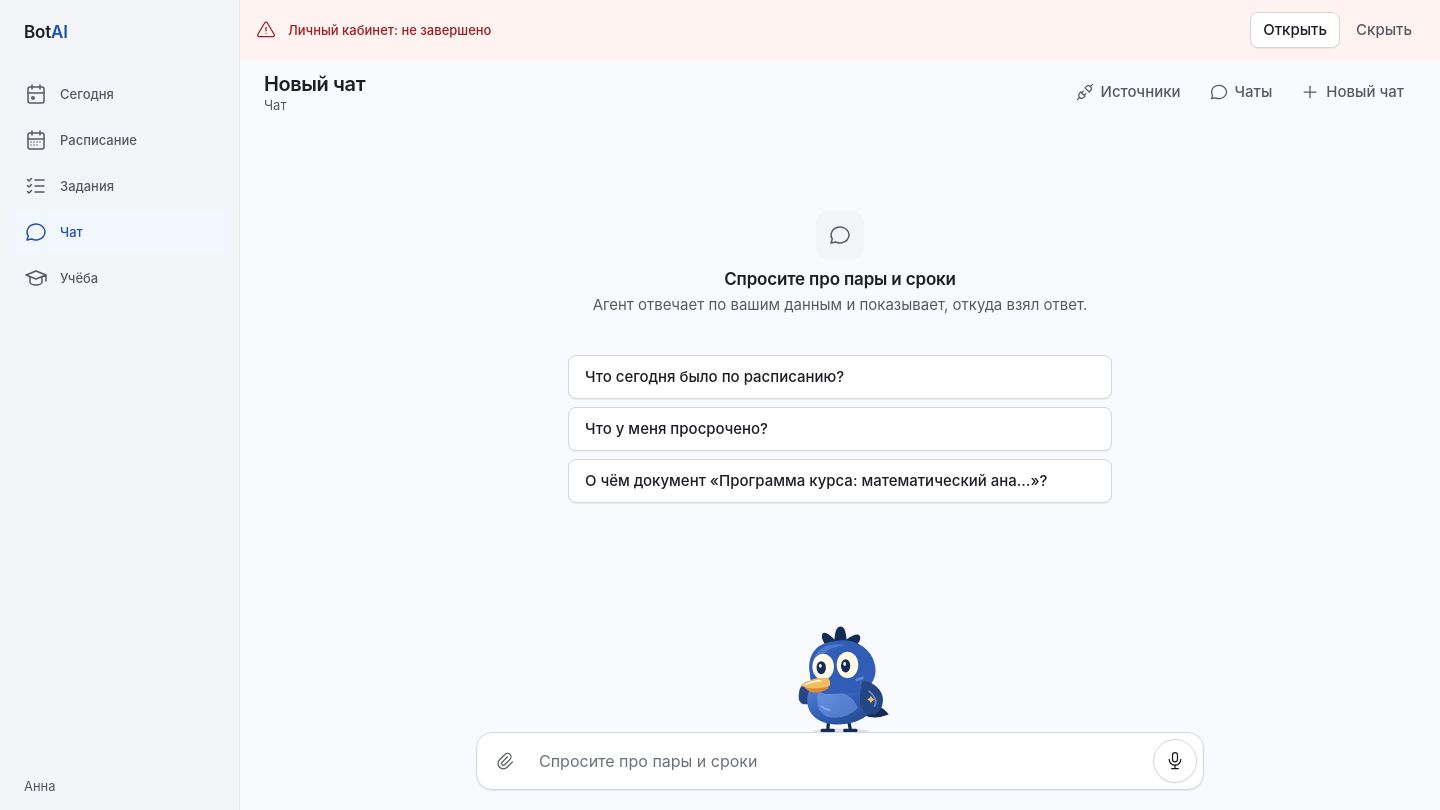
Test: один тред: подключение, вход, вопросы агента и ответы в одной ленте › сервер отказал (409 secret_link_calendar) — защита на случай расхождения: стёрто из очереди и хранилища, в поле остальной текст
The width and height of the screenshot is (1440, 810).
Expected: the heading "Спросите про пары и сроки" is shown, [724,268,956,288]
Type "Привет, это обычный текст" into the text box named "Сообщение агенту" at (840, 761), box [531,739,1149,783]
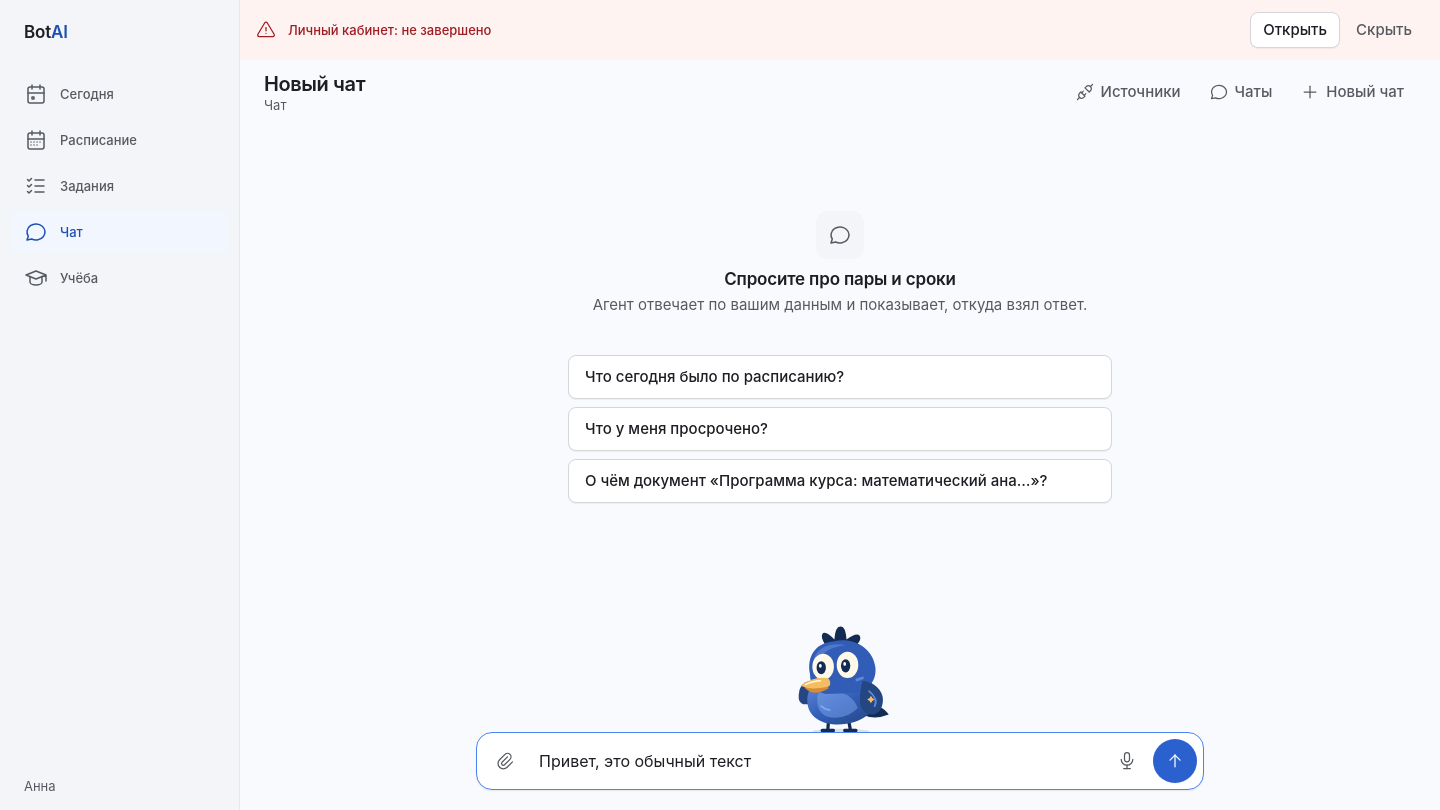
Click the button named "Отправить" at (1175, 761), box [1153,739,1197,783]
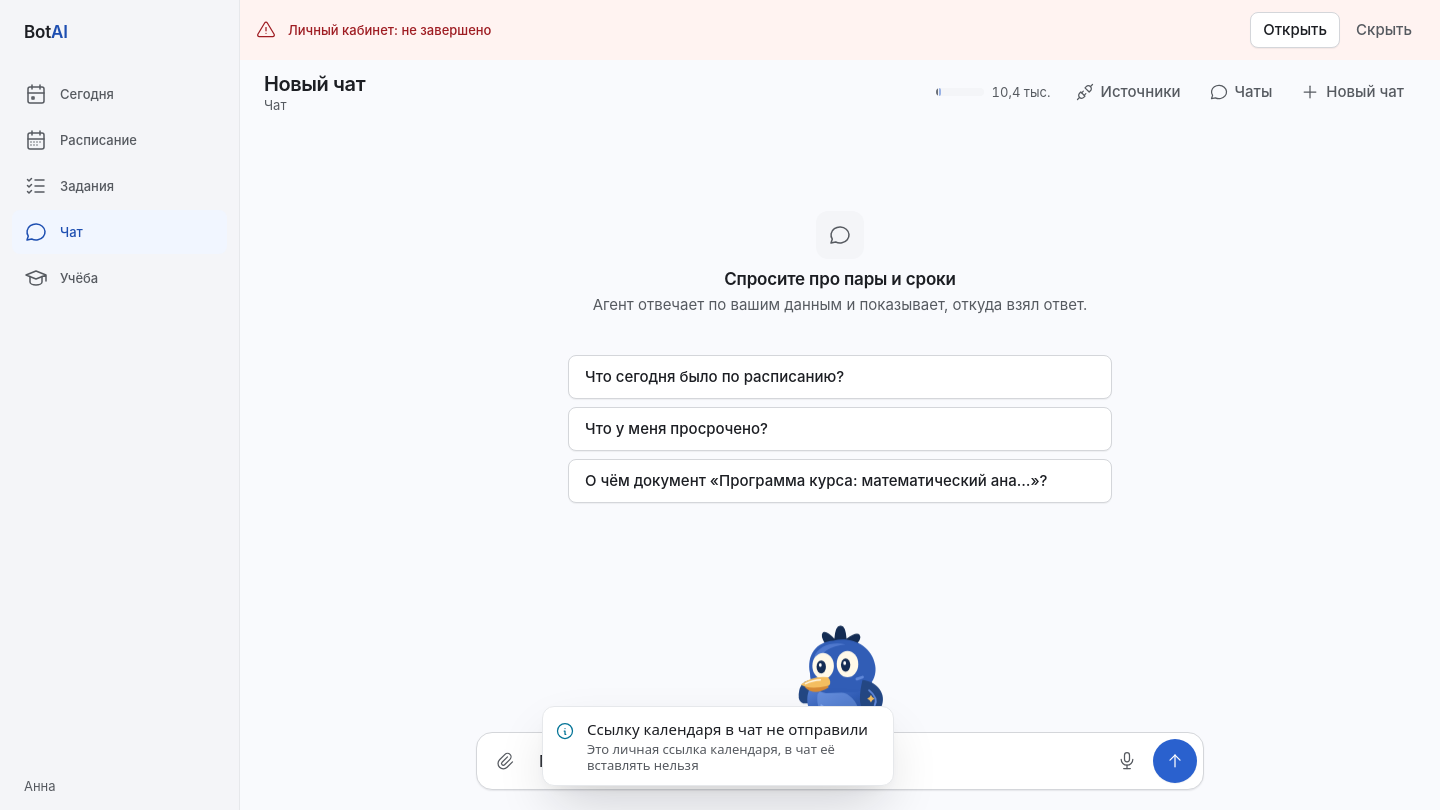
Expected: the text "Ссылку календаря в чат не отправили" is shown, [587,719,881,739]
